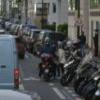Motorcycle: (36, 48, 67, 88)
